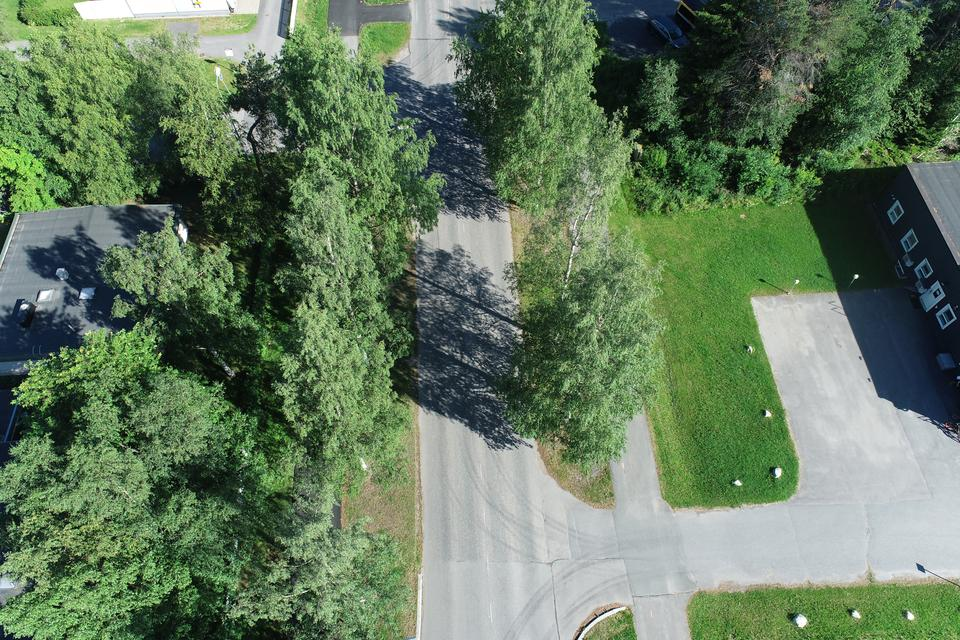intersection: (397, 456, 740, 640)
